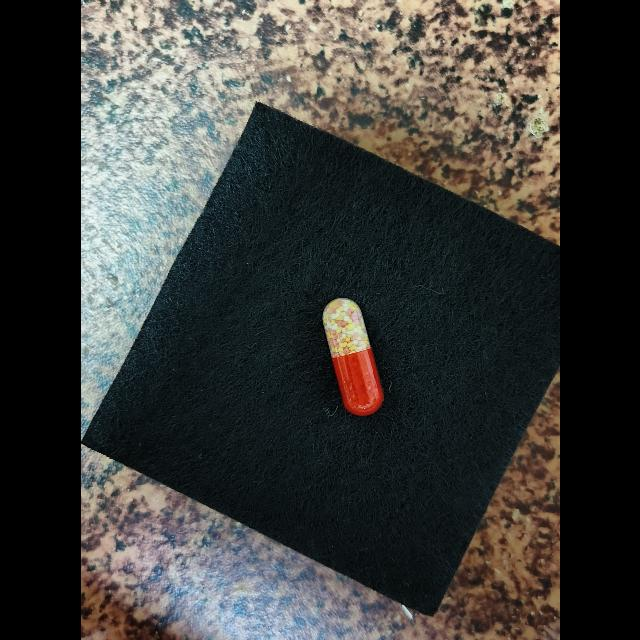Intact Capsule: (322, 297, 383, 416)
